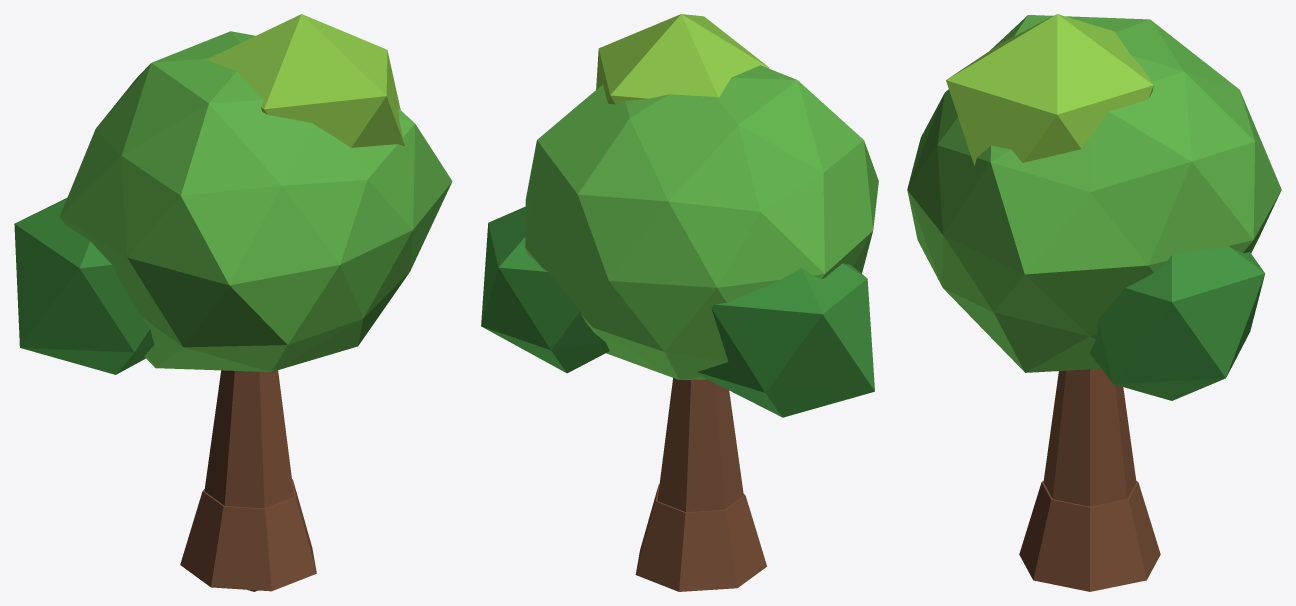
File: Tree_Round_Small.fbx
3 renders of one model, left to right at view 1: azimuth 30°, elevation 25°; view 2: azimuth 150°, elevation 25°; view 3: azimuth 270°, elevation 25°, orthographic. The views are drawn at different scales.
Visible parts, largest first — view 1: Tree_Round_Small; view 2: Tree_Round_Small; view 3: Tree_Round_Small.
Boxes of the visible parts, x1,y1,x2,y2 form: Tree_Round_Small: (14,14,452,591); Tree_Round_Small: (481,14,878,591); Tree_Round_Small: (907,14,1281,591).
Bounding box in the file's own units: 2.78 × 3.92 × 2.28.
